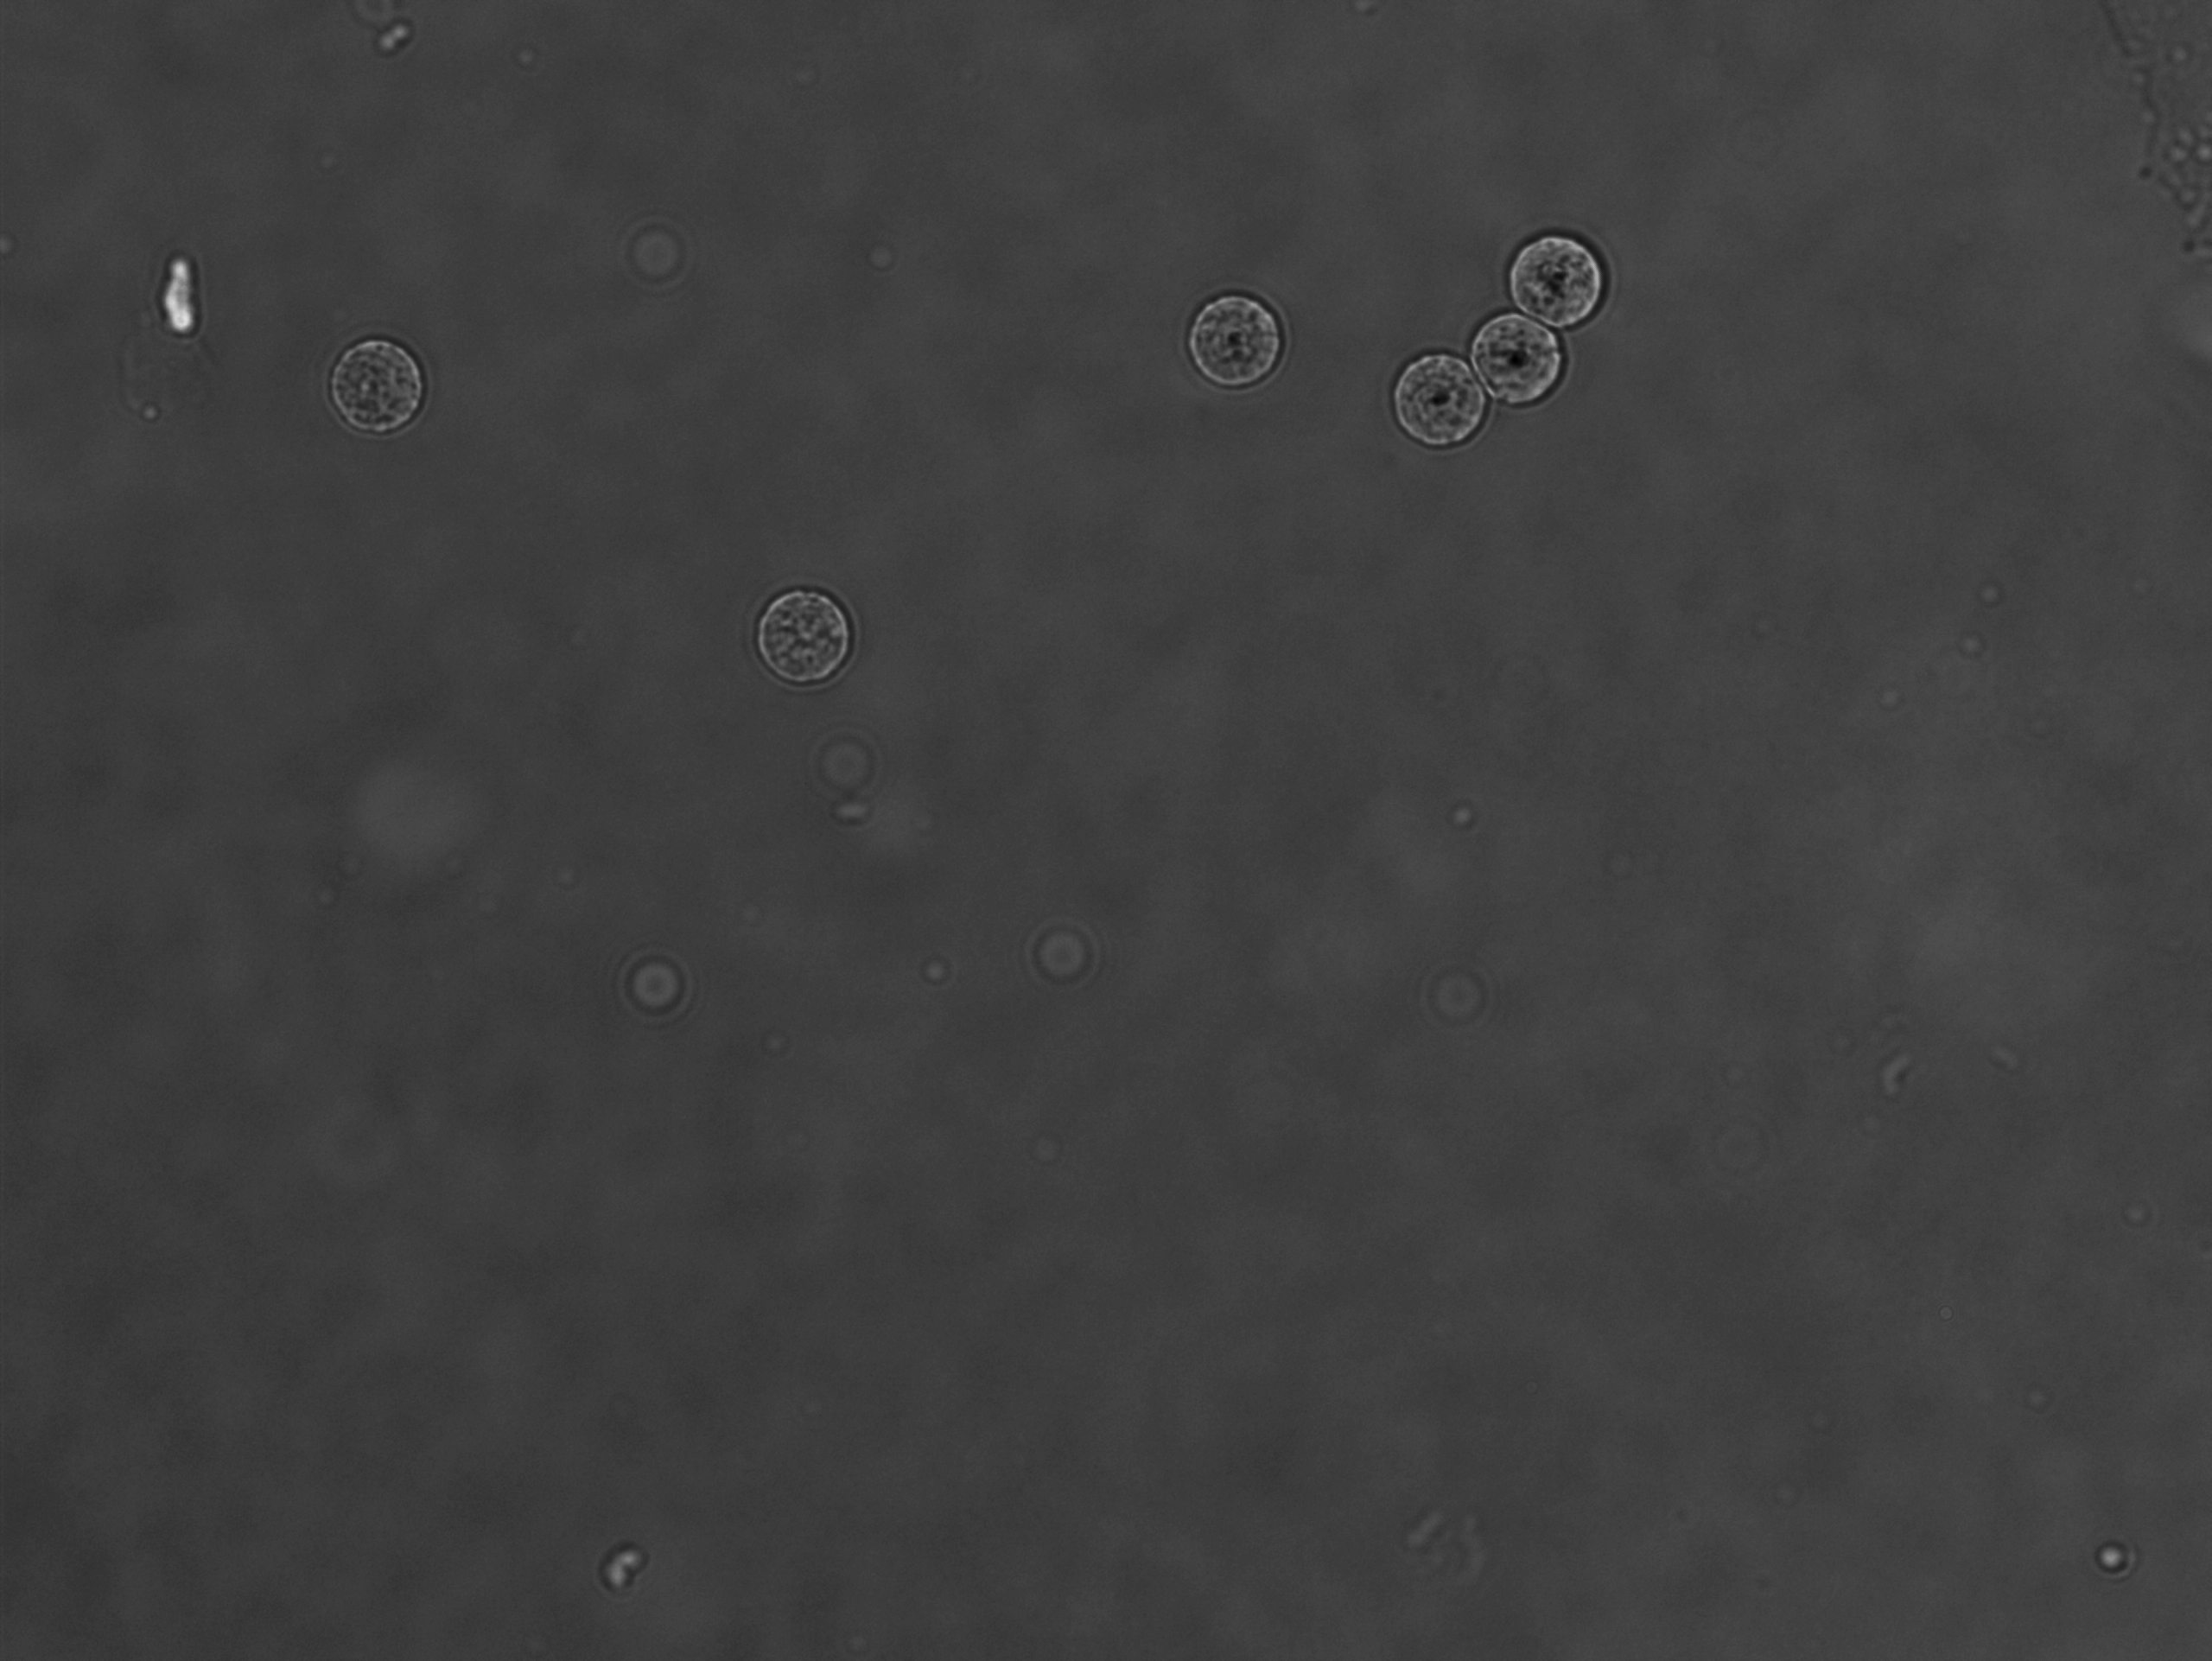depth:0: (1490, 211, 1636, 345), (750, 564, 891, 700), (304, 319, 443, 454), (1371, 325, 1500, 459), (1169, 270, 1291, 403), (1450, 295, 1572, 410)
